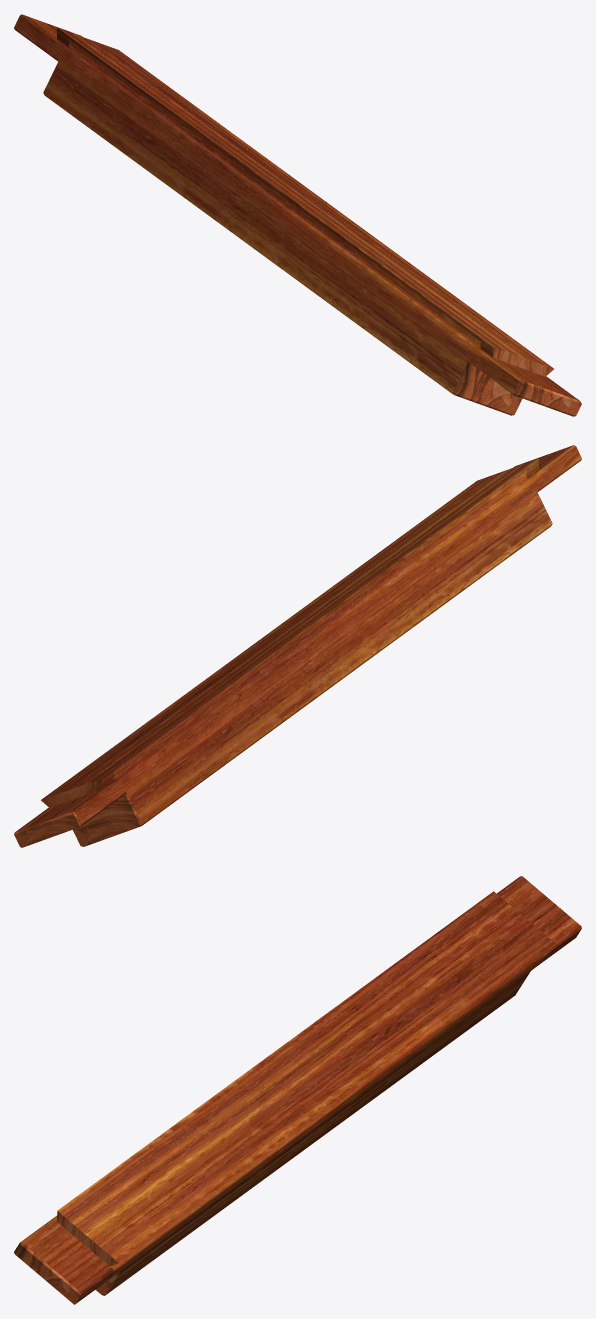
File: quanyi_J_chundai.FBX
3 renders of one model, top to bottom at view 1: azimuth 30°, elevation 25°; view 2: azimuth 150°, elevation 25°; view 3: azimuth 330°, elevation 25°, orthographic.
Parts seen in each view (by area): view 1: quanyi_J_chundai; view 2: quanyi_J_chundai; view 3: quanyi_J_chundai.
Boxes of the visible parts, box(x1,y1,x2,y2) form: quanyi_J_chundai: box(14, 14, 581, 416); quanyi_J_chundai: box(14, 445, 581, 847); quanyi_J_chundai: box(14, 876, 581, 1304).
Bounding box in the file's own units: 3.99 × 3.73 × 39.1.
Materials: 2 (2 with a texture image).
